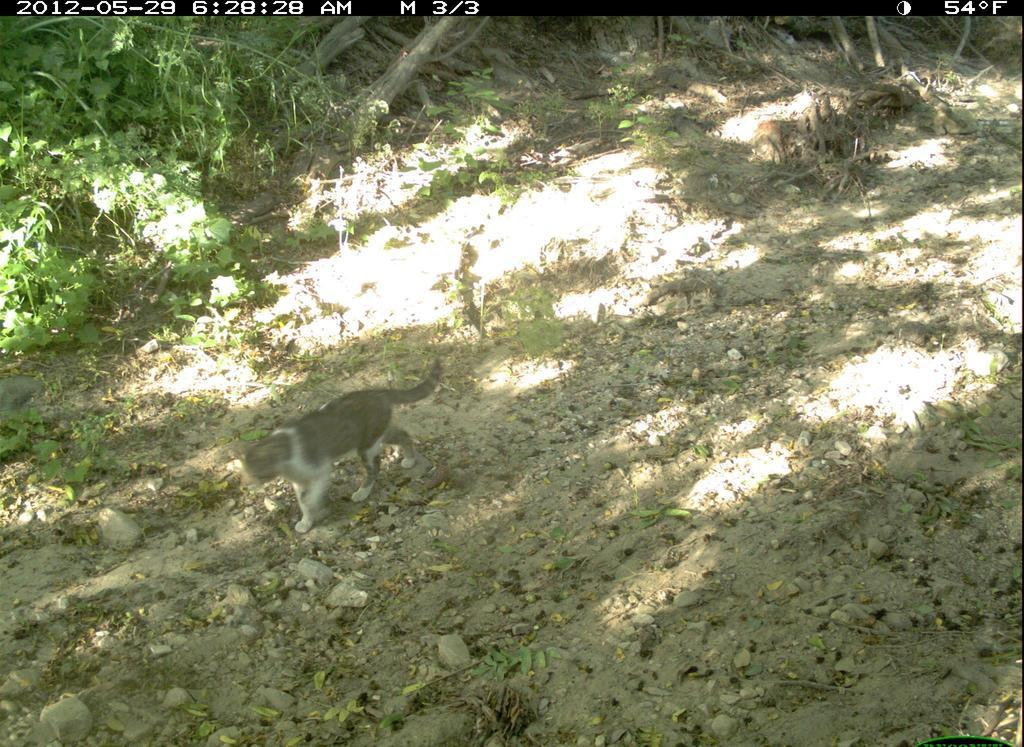cat: (231, 354, 446, 537)
